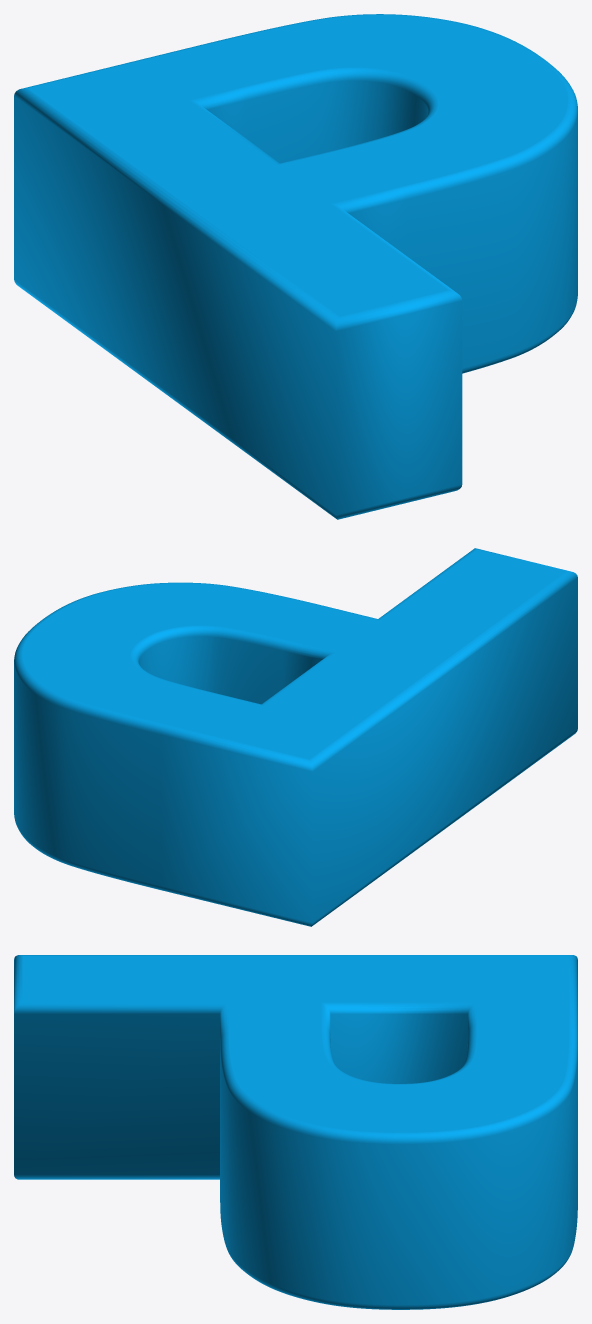
The picture shows the model from 3 angles, top to bottom: view 1: azimuth 30°, elevation 25°; view 2: azimuth 150°, elevation 25°; view 3: azimuth 270°, elevation 25°; orthographic projection. The views are drawn at different scales.
Parts seen in each view (by area): view 1: \u0420; view 2: \u0420; view 3: \u0420.
Boxes of the visible parts, x1,y1,x2,y2 form: \u0420: [14, 14, 577, 519]; \u0420: [14, 548, 577, 926]; \u0420: [14, 955, 577, 1309].
Size of the model in its own units: 0.3989 by 0.178 by 0.5158.
